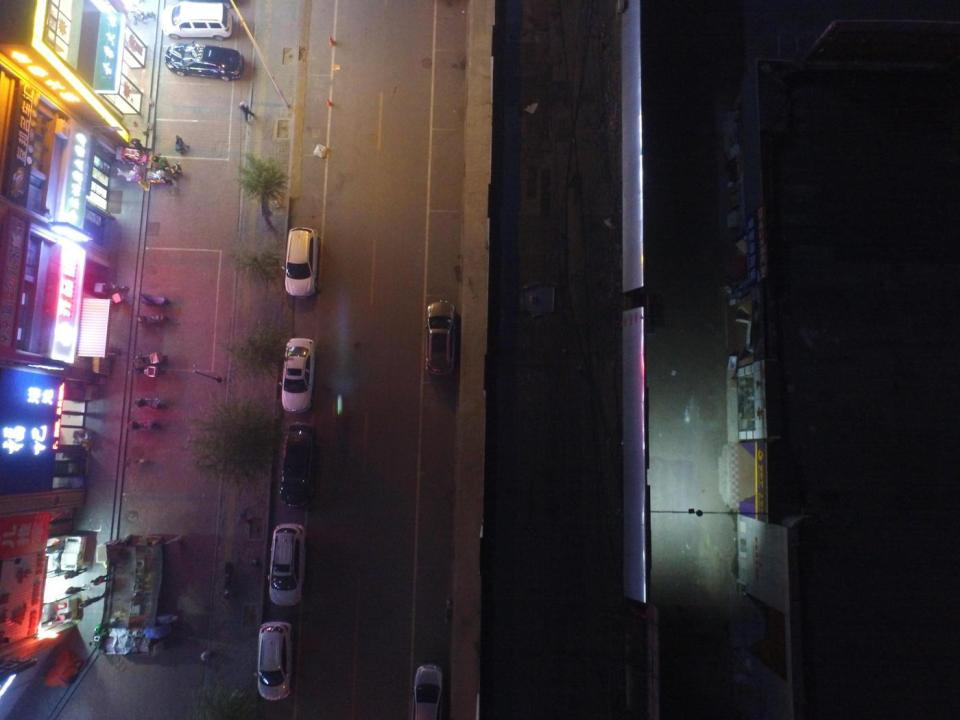car: (164, 41, 244, 81), (254, 621, 294, 701), (279, 338, 318, 414), (282, 228, 319, 298), (411, 664, 443, 720), (134, 397, 164, 409), (127, 420, 156, 430)
van: (268, 522, 307, 605), (280, 422, 317, 507), (160, 2, 232, 41), (424, 300, 454, 375)
